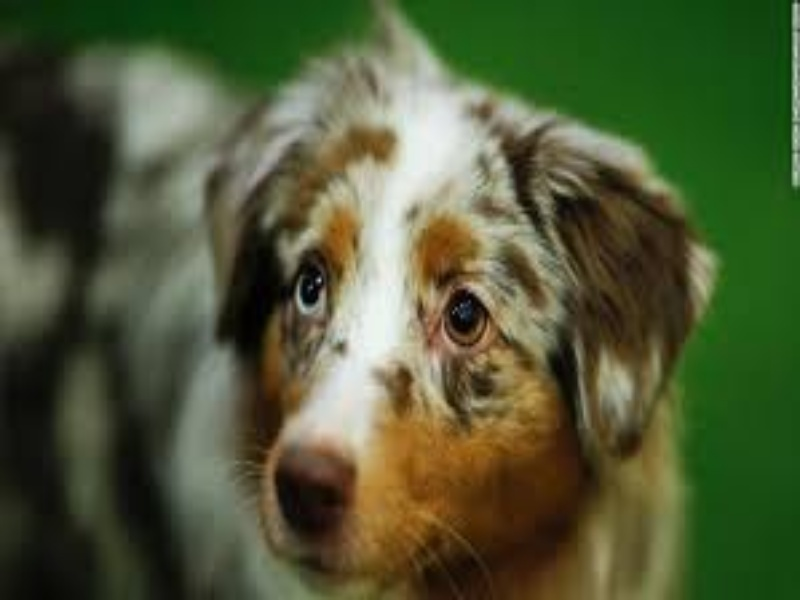dog: (150, 27, 727, 599)
